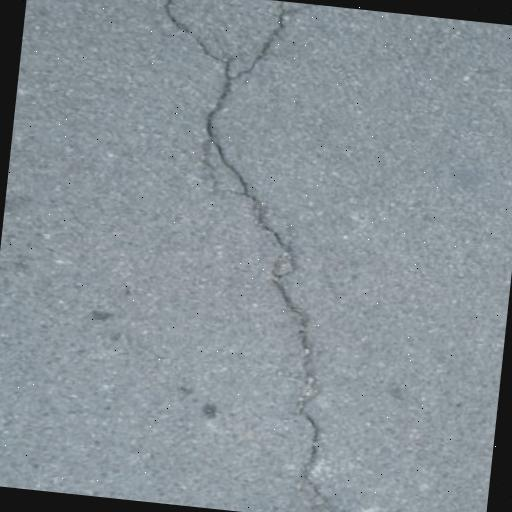spalling: (183, 11, 352, 511), (135, 0, 244, 88)
